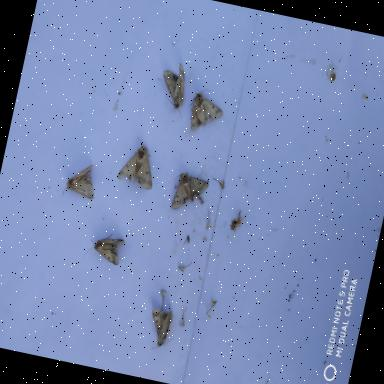abw: (115, 133, 161, 189), (182, 83, 228, 135), (153, 60, 193, 119), (168, 169, 212, 215), (82, 225, 126, 266), (60, 158, 100, 202), (143, 306, 179, 354)
